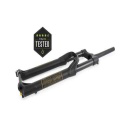fork: (8, 44, 125, 99)
